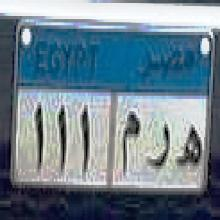1: (56, 104, 71, 177), (32, 100, 46, 176), (79, 100, 92, 179)
haa: (174, 121, 204, 179)
meem: (117, 106, 142, 183)
raa: (146, 114, 170, 176)
